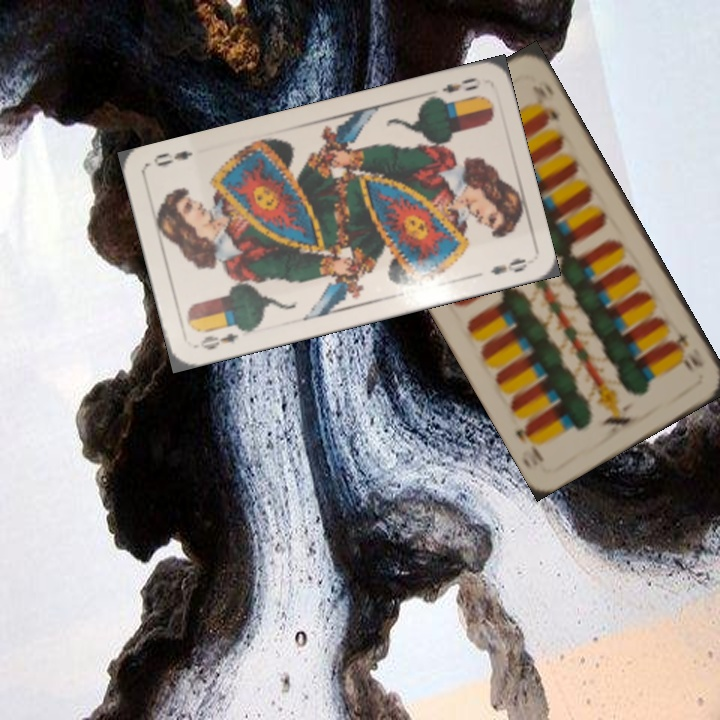E10: (667, 327, 707, 376)
EO: (196, 329, 242, 353), (438, 73, 484, 96)
